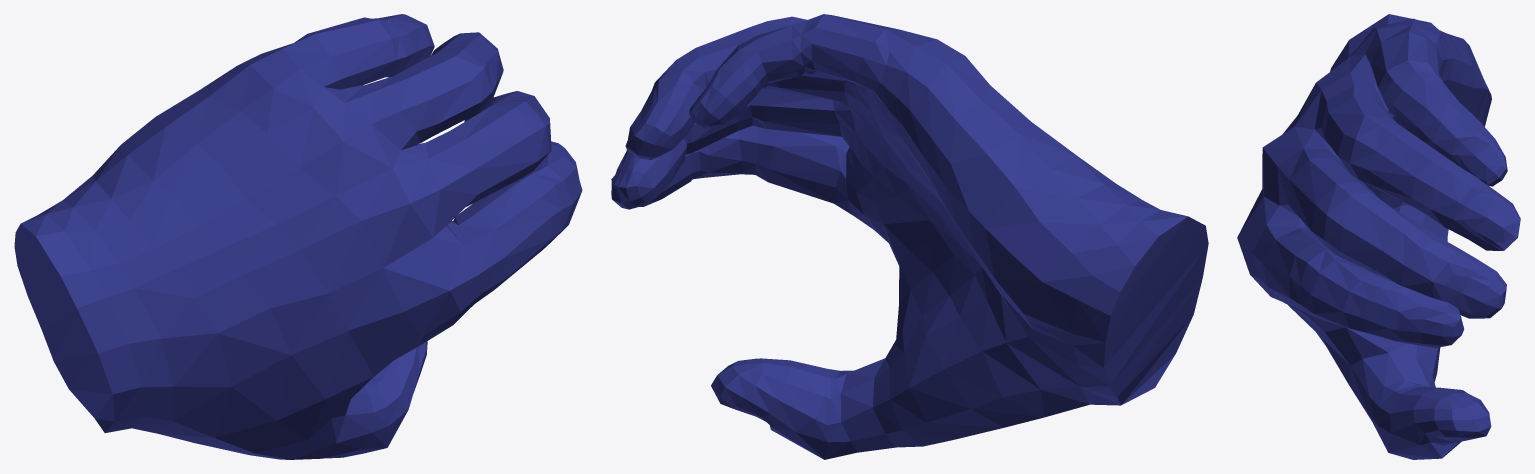
3 renders of one model, left to right at view 1: azimuth 30°, elevation 25°; view 2: azimuth 150°, elevation 25°; view 3: azimuth 270°, elevation 25°, orthographic. The views are drawn at different scales.
Size of the model in its own units: 0.1616 by 0.1239 by 0.0785.
